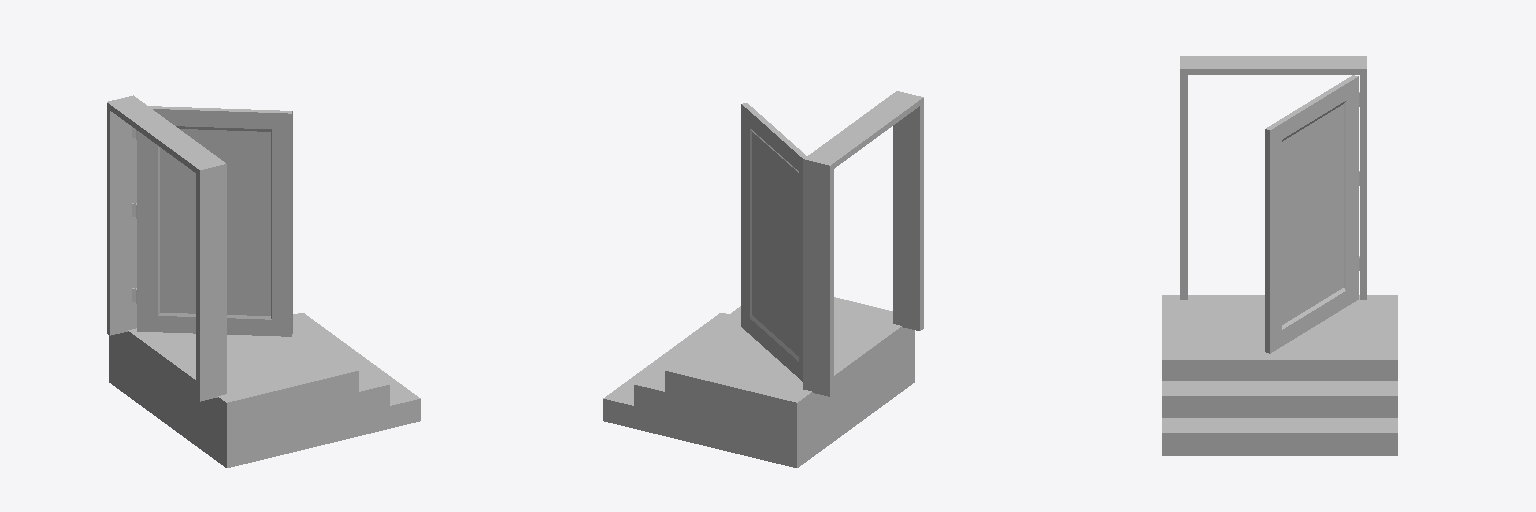
File: StartDoor.obj
The picture shows the model from 3 angles: view 1: azimuth 30°, elevation 25°; view 2: azimuth 150°, elevation 25°; view 3: azimuth 270°, elevation 25°; orthographic projection.
Parts seen in each view (by area): view 1: pCube1, backDoor1:door_End, pCube2; view 2: pCube1, pCube2, backDoor1:door_End; view 3: pCube1, backDoor1:door_End, pCube2.
Part boxes in pixels (bbox=[...]): pCube1: bbox=[109, 313, 420, 467]; backDoor1:door_End: bbox=[137, 106, 292, 336]; pCube2: bbox=[107, 95, 226, 401]; pCube1: bbox=[603, 297, 914, 467]; pCube2: bbox=[803, 91, 923, 396]; backDoor1:door_End: bbox=[741, 103, 806, 381]; pCube1: bbox=[1162, 295, 1397, 455]; backDoor1:door_End: bbox=[1265, 75, 1358, 353]; pCube2: bbox=[1180, 56, 1366, 299].
Size of the model in its own units: 7.88 by 10.52 by 7.59.